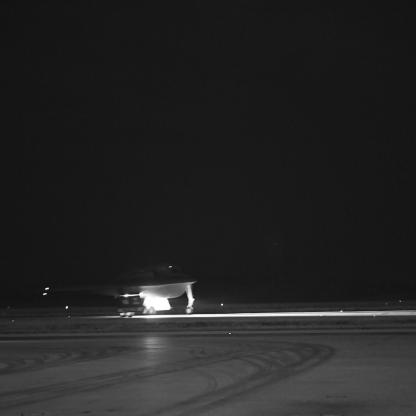B2: (42, 262, 199, 319)
